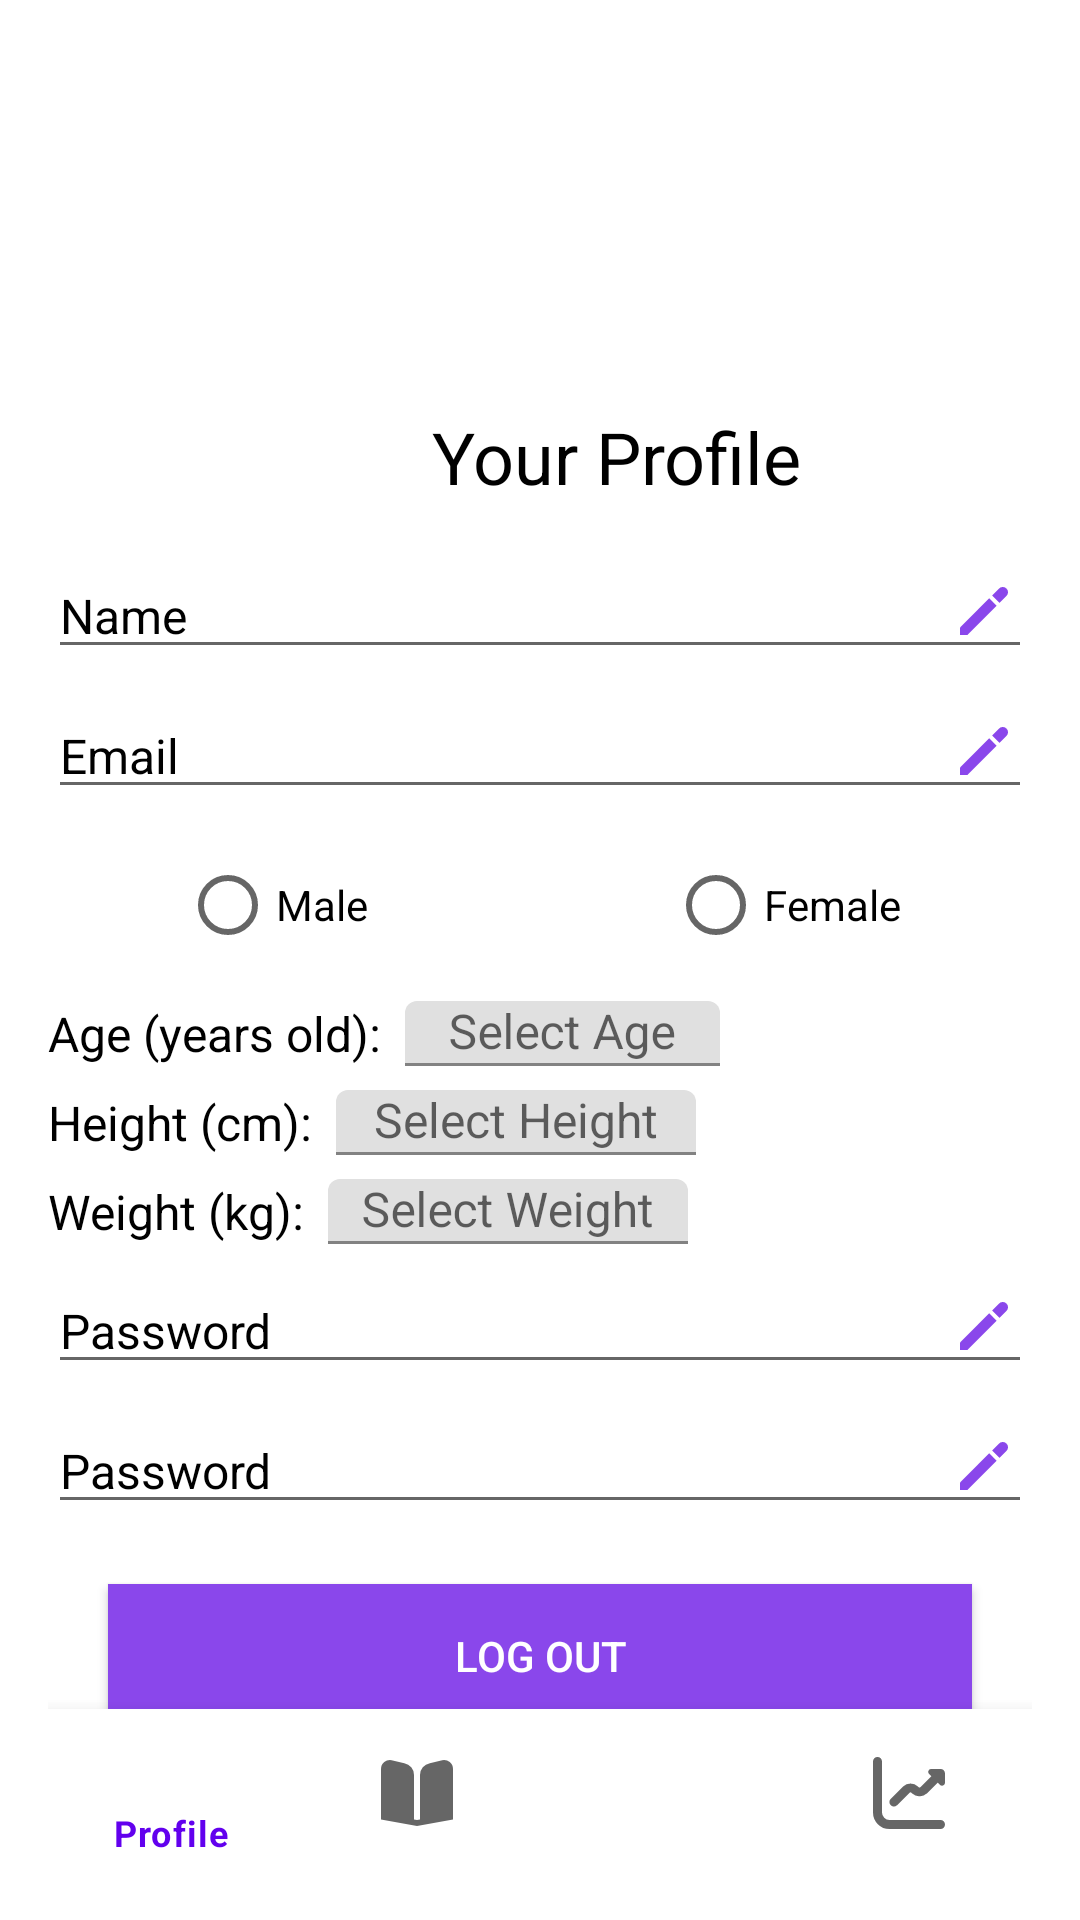

Icons on this 1080 x 1920 Android screen, each with the point to tap as (x=x, y=y):
edit: (x=984, y=611), (x=984, y=751), (x=984, y=1326), (x=984, y=1466)
